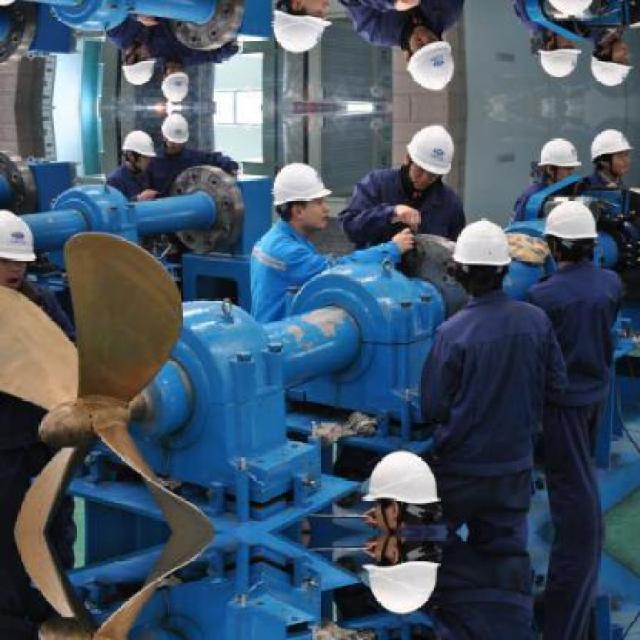Helmet: (358, 438, 444, 530), (358, 534, 444, 624), (271, 157, 334, 232), (450, 217, 512, 292), (403, 21, 455, 94), (403, 120, 455, 192), (269, 0, 334, 57), (542, 200, 600, 260), (1, 205, 38, 288), (535, 132, 580, 182), (588, 35, 630, 88), (535, 31, 580, 80), (588, 125, 630, 177), (123, 128, 155, 172), (123, 42, 155, 86), (158, 110, 191, 148), (158, 65, 191, 102), (542, 0, 602, 14)
